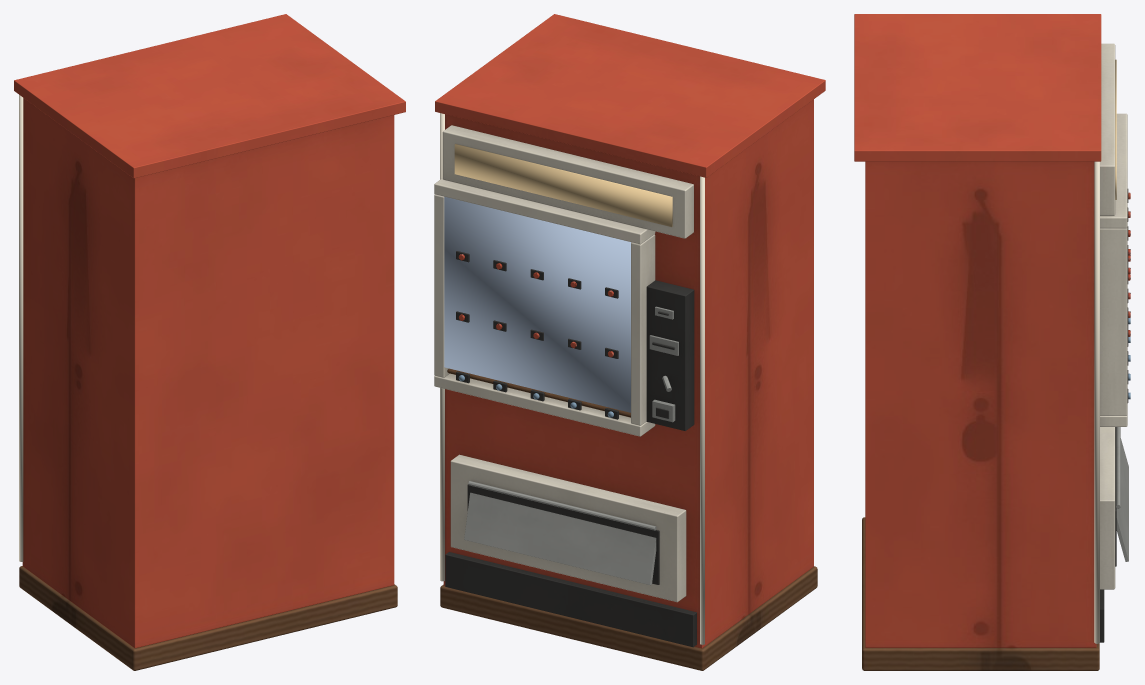
The model's file is vending_red.glb.
3 renders of one model, left to right at view 1: azimuth 30°, elevation 25°; view 2: azimuth 150°, elevation 25°; view 3: azimuth 270°, elevation 25°, orthographic. The views are drawn at different scales.
Parts seen in each view (by area): view 1: vending_red_felt_red, vending_red_wood_dark, vending_red_yarn_cream; view 2: vending_red_felt_red, vending_red_felt_ivory, vending_red_glass, vending_red_felt_charcoal, vending_red_felt_tin, vending_red_wood_dark, vending_red_paper, vending_red_yarn_cream; view 3: vending_red_felt_red, vending_red_felt_ivory, vending_red_wood_dark, vending_red_yarn_cream, vending_red_felt_tin, vending_red_felt_charcoal.
Part boxes in pixels (x1,y1,x2,y2): vending_red_felt_red: (14,14,405,648); vending_red_wood_dark: (19,566,397,670); vending_red_yarn_cream: (19,95,23,561); vending_red_felt_red: (435,14,825,648); vending_red_felt_ivory: (434,125,693,602); vending_red_glass: (444,196,630,412); vending_red_felt_charcoal: (445,251,696,647); vending_red_felt_tin: (464,306,678,585); vending_red_wood_dark: (440,368,817,670); vending_red_paper: (454,144,672,226); vending_red_yarn_cream: (440,113,704,644); vending_red_felt_red: (854,14,1130,647); vending_red_felt_ivory: (1100,43,1127,589); vending_red_wood_dark: (862,517,1099,670); vending_red_yarn_cream: (1094,161,1099,643); vending_red_felt_tin: (1116,427,1128,561); vending_red_felt_charcoal: (1100,189,1128,642).
Bounding box in the file's own units: 2.1 × 3.74 × 1.79.
15 materials, 12 textured.
